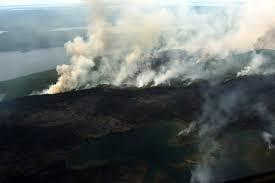yanwu: (4, 1, 275, 101), (176, 67, 275, 181)
